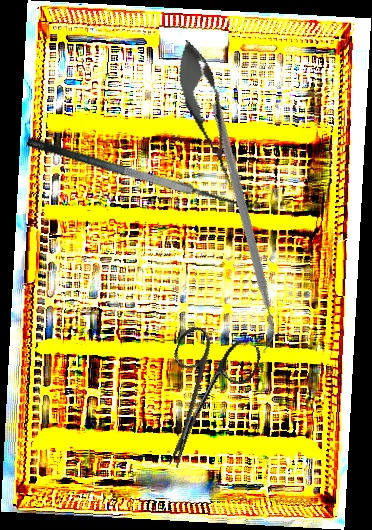Chopper: (111, 100, 369, 356)
Iris Scissors: (136, 320, 264, 482)
Micro Scissor: (166, 34, 248, 191)
Spatula Surgical: (26, 117, 261, 220)
